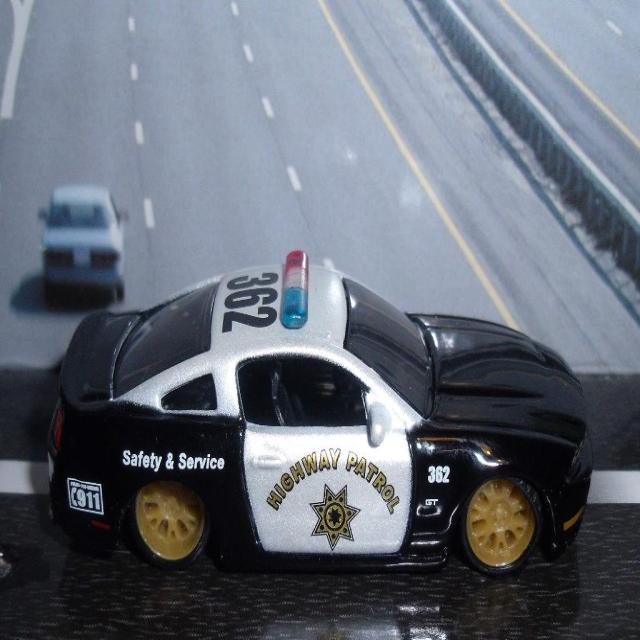car: (38, 190, 132, 298)
